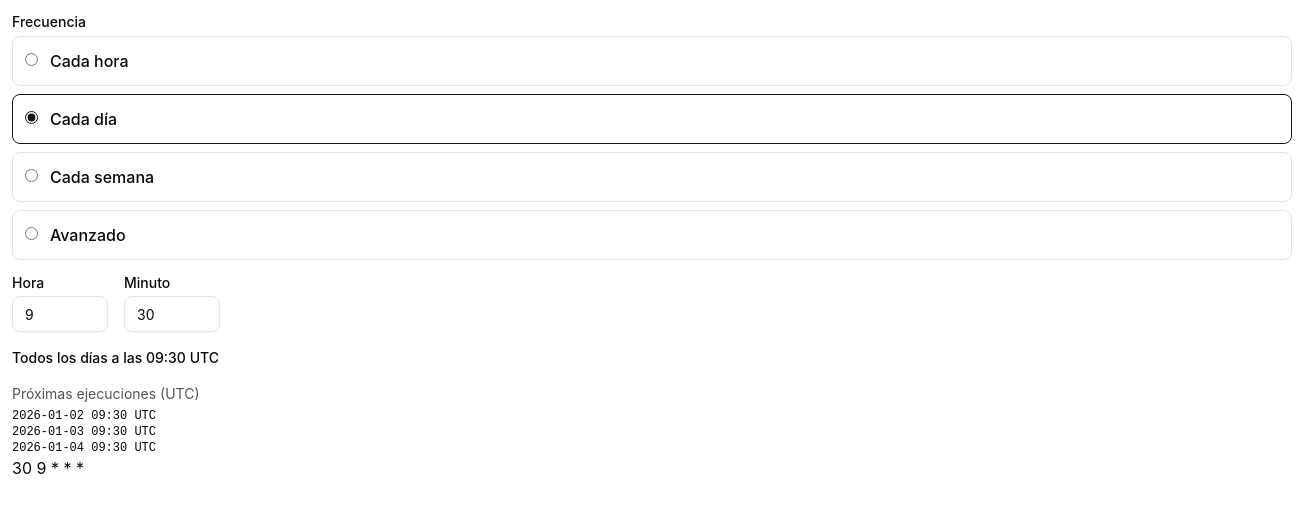
CronEditor › keeps the expression when switching to the advanced editor
This screenshot has width=1304, height=513.
Click the radio button labelled "Avanzado" at [32, 234], box [25,227,38,240]
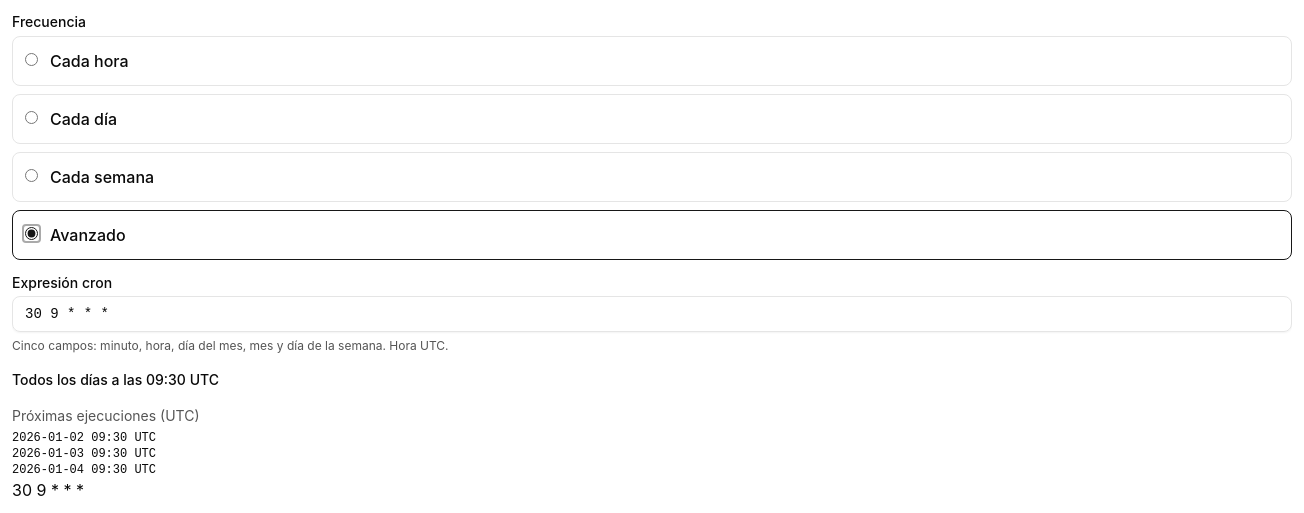
Expected: the field labelled "Expresión cron" holds "30 9 * * *", [12,296,1292,332]
